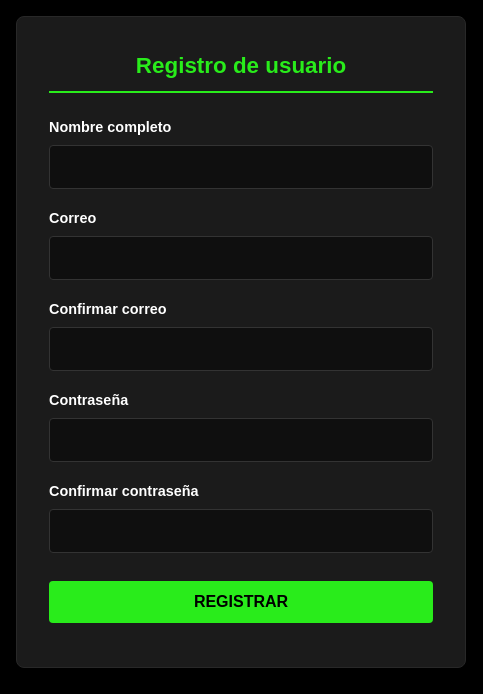
Test case: Registro › muestra errores si se envía el formulario vacío
Click the button "Registrar" at (241, 602), box [49,580,433,622]
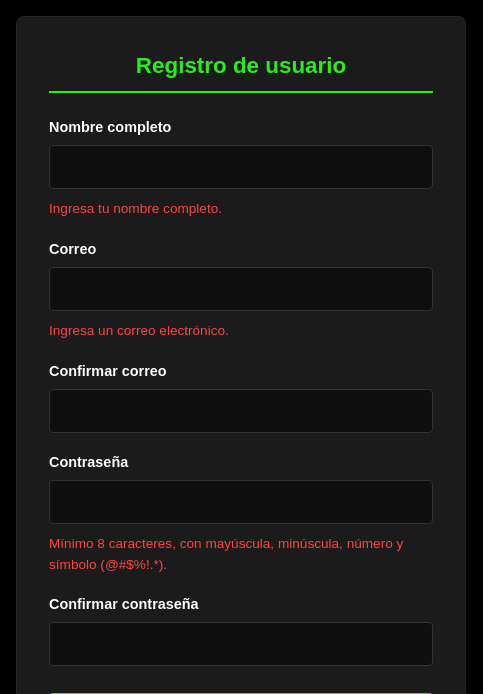
Result: the text "Ingresa tu nombre completo." is shown at [49,201,222,216]
Result: the text "Ingresa un correo electrónico." is shown at [49,323,229,338]
